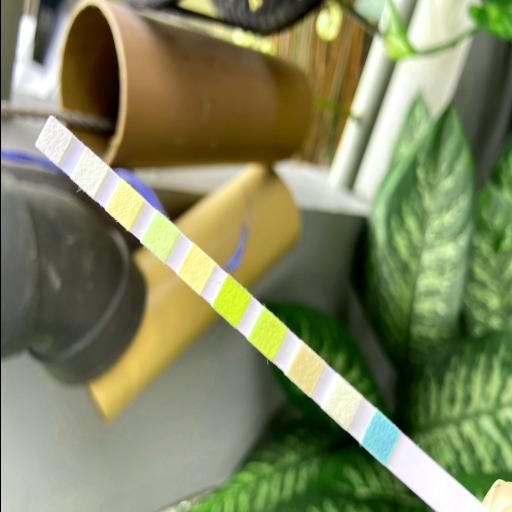Bilirubin: (332, 386, 352, 420)
Blood: (222, 286, 242, 318)
Glucose: (370, 421, 390, 454)
Ketone: (296, 352, 314, 386)
Leukocytes: (44, 126, 62, 154)
Nitrite: (80, 158, 97, 190)
Protein: (152, 222, 168, 252)
SpGravity: (258, 318, 276, 350)
Urobilinogen: (114, 190, 134, 220)
pH: (186, 254, 204, 284)
strip: (35, 115, 488, 512)
